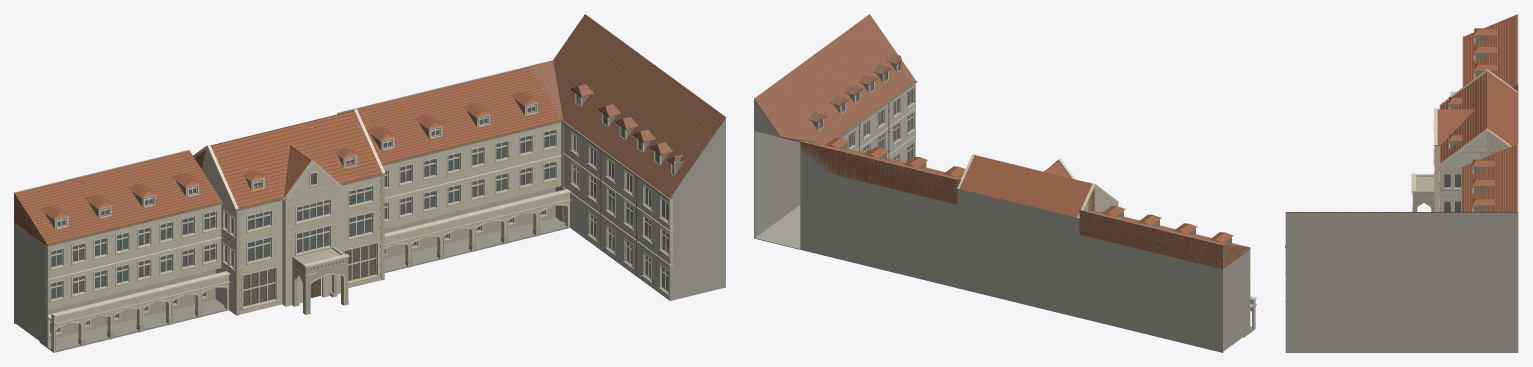
The model's file is full-source.glb.
3 views of the same model, side by side, from view 1: azimuth 30°, elevation 25°; view 2: azimuth 150°, elevation 25°; view 3: azimuth 270°, elevation 25° (orthographic). The views are drawn at different scales.
Parts seen in each view (by area): view 1: 中西女中东楼（五一楼）院落立面; view 2: 中西女中东楼（五一楼）院落立面; view 3: 中西女中东楼（五一楼）院落立面.
Part boxes in pixels (<box>): 中西女中东楼（五一楼）院落立面: <box>14,14,725,352</box>; 中西女中东楼（五一楼）院落立面: <box>754,14,1256,352</box>; 中西女中东楼（五一楼）院落立面: <box>1285,14,1518,352</box>.
Size of the model in its own units: 78.4 by 22.37 by 33.6.
19 materials, 2 textured.
